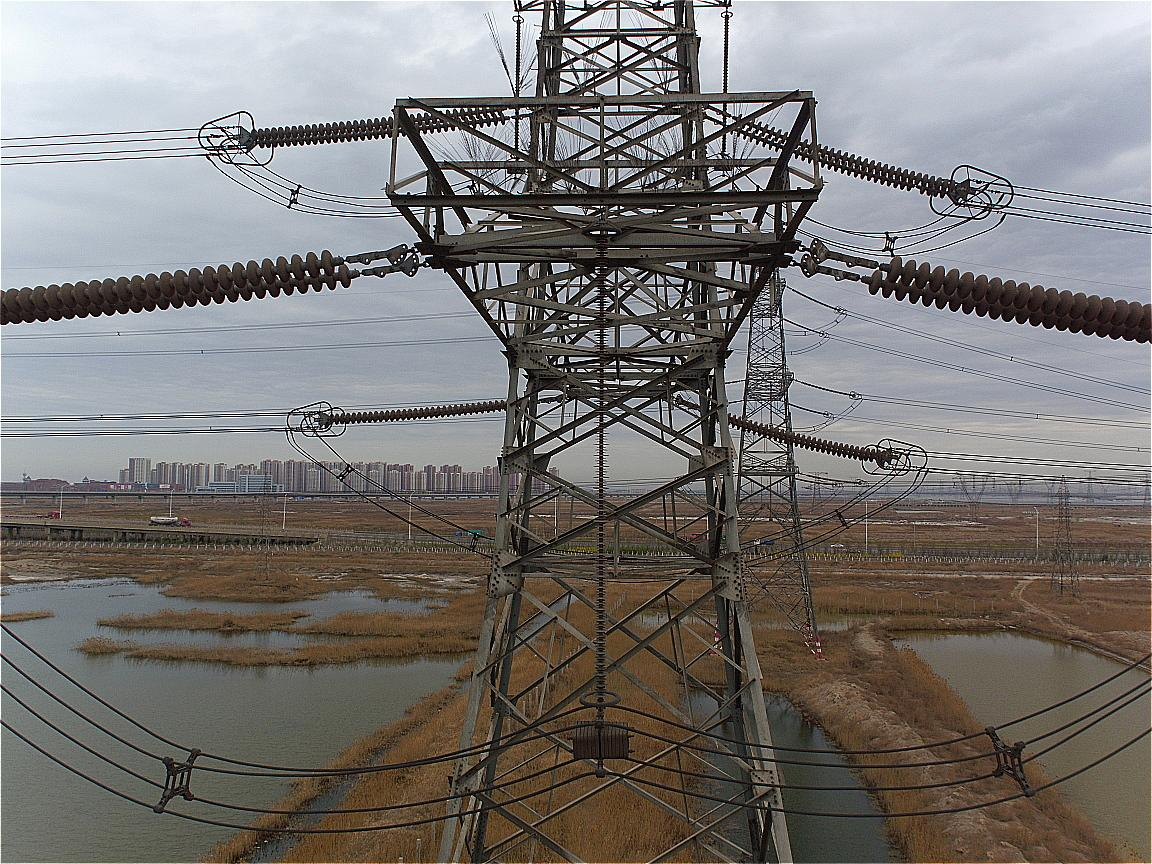insultor1: (4, 248, 355, 328), (868, 255, 1149, 352), (732, 116, 957, 202), (250, 102, 506, 151), (726, 412, 896, 463), (321, 399, 511, 428)
